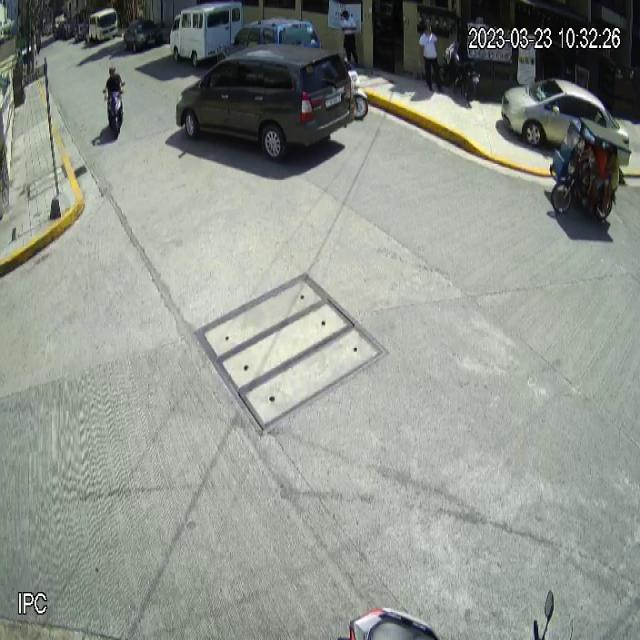Car: (175, 44, 356, 162)
Motorcycle: (102, 81, 126, 141)
Tricycle: (549, 117, 632, 221)
